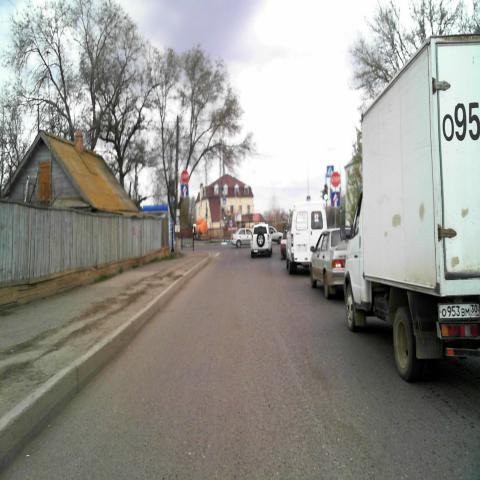5_6: (331, 191, 340, 207), (182, 184, 189, 199)
